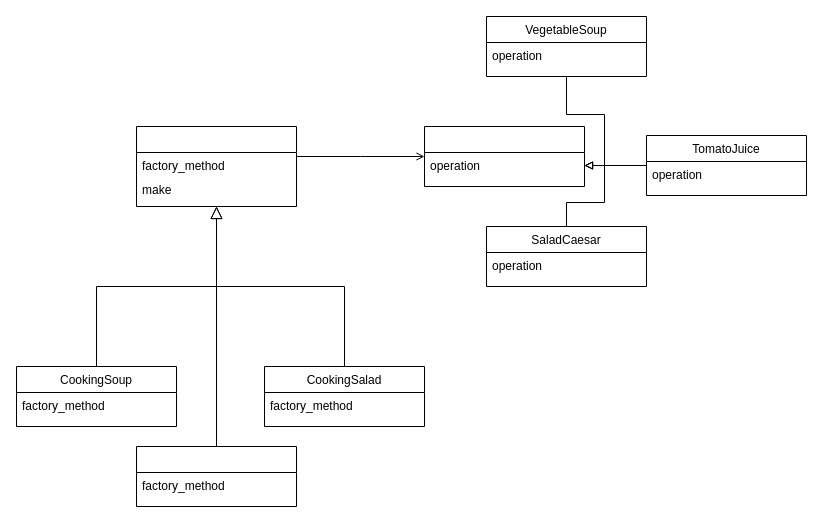
Image size: 823x523. Some labels were removed from this diagram. The box of each missing label's shape, as (x1, y1, x2, y2) in pixels:
Cook: (136, 126, 296, 206)
CookingJuice: (136, 446, 296, 506)
Product: (424, 126, 584, 186)
